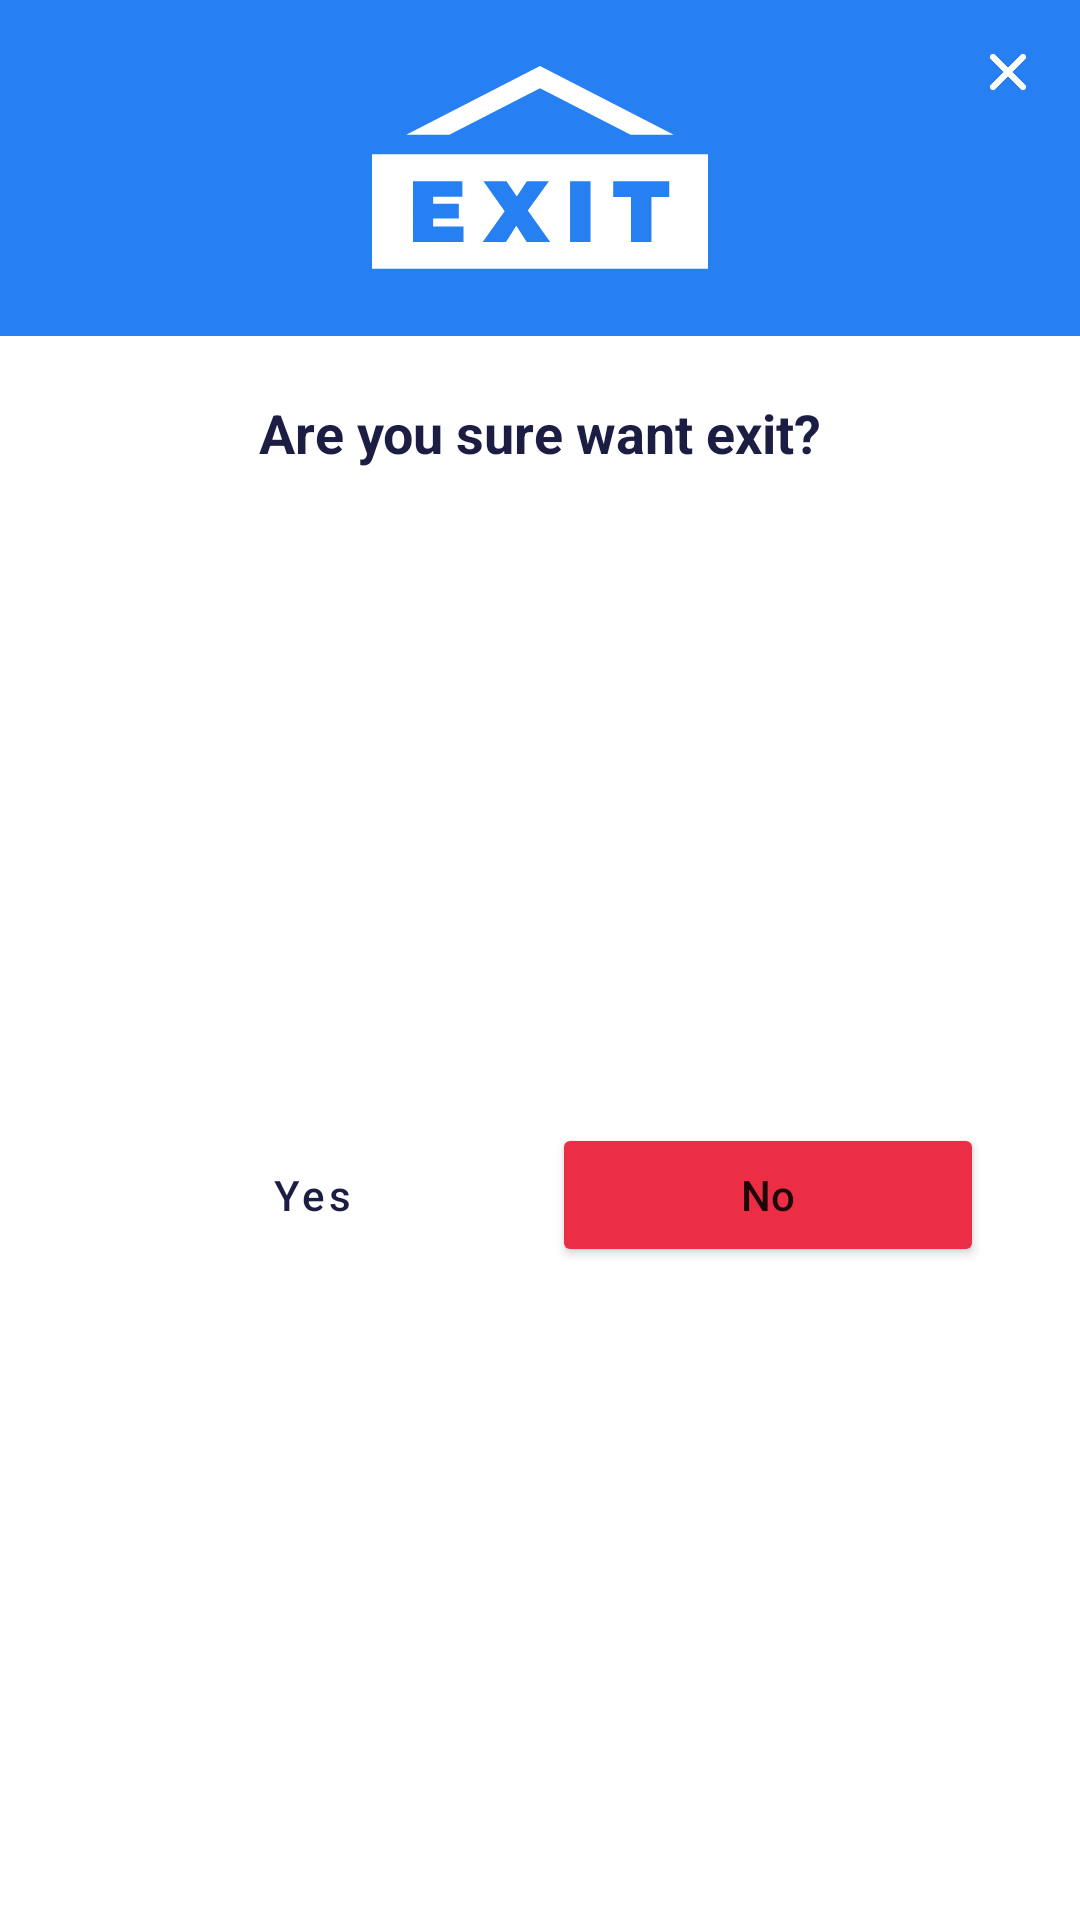

Named icons in this screenshot (1080*1920) and their centers, point (x, y):
close: point (1008, 72)
